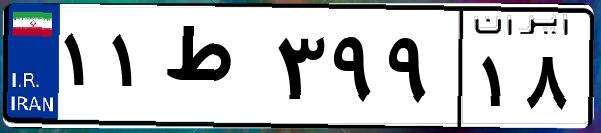1: (57, 26, 110, 100), (475, 38, 525, 113), (110, 28, 158, 98)
3: (270, 28, 330, 110)
8: (525, 38, 570, 115)
9: (385, 28, 445, 110), (330, 28, 385, 110)
ط: (158, 20, 270, 120)
